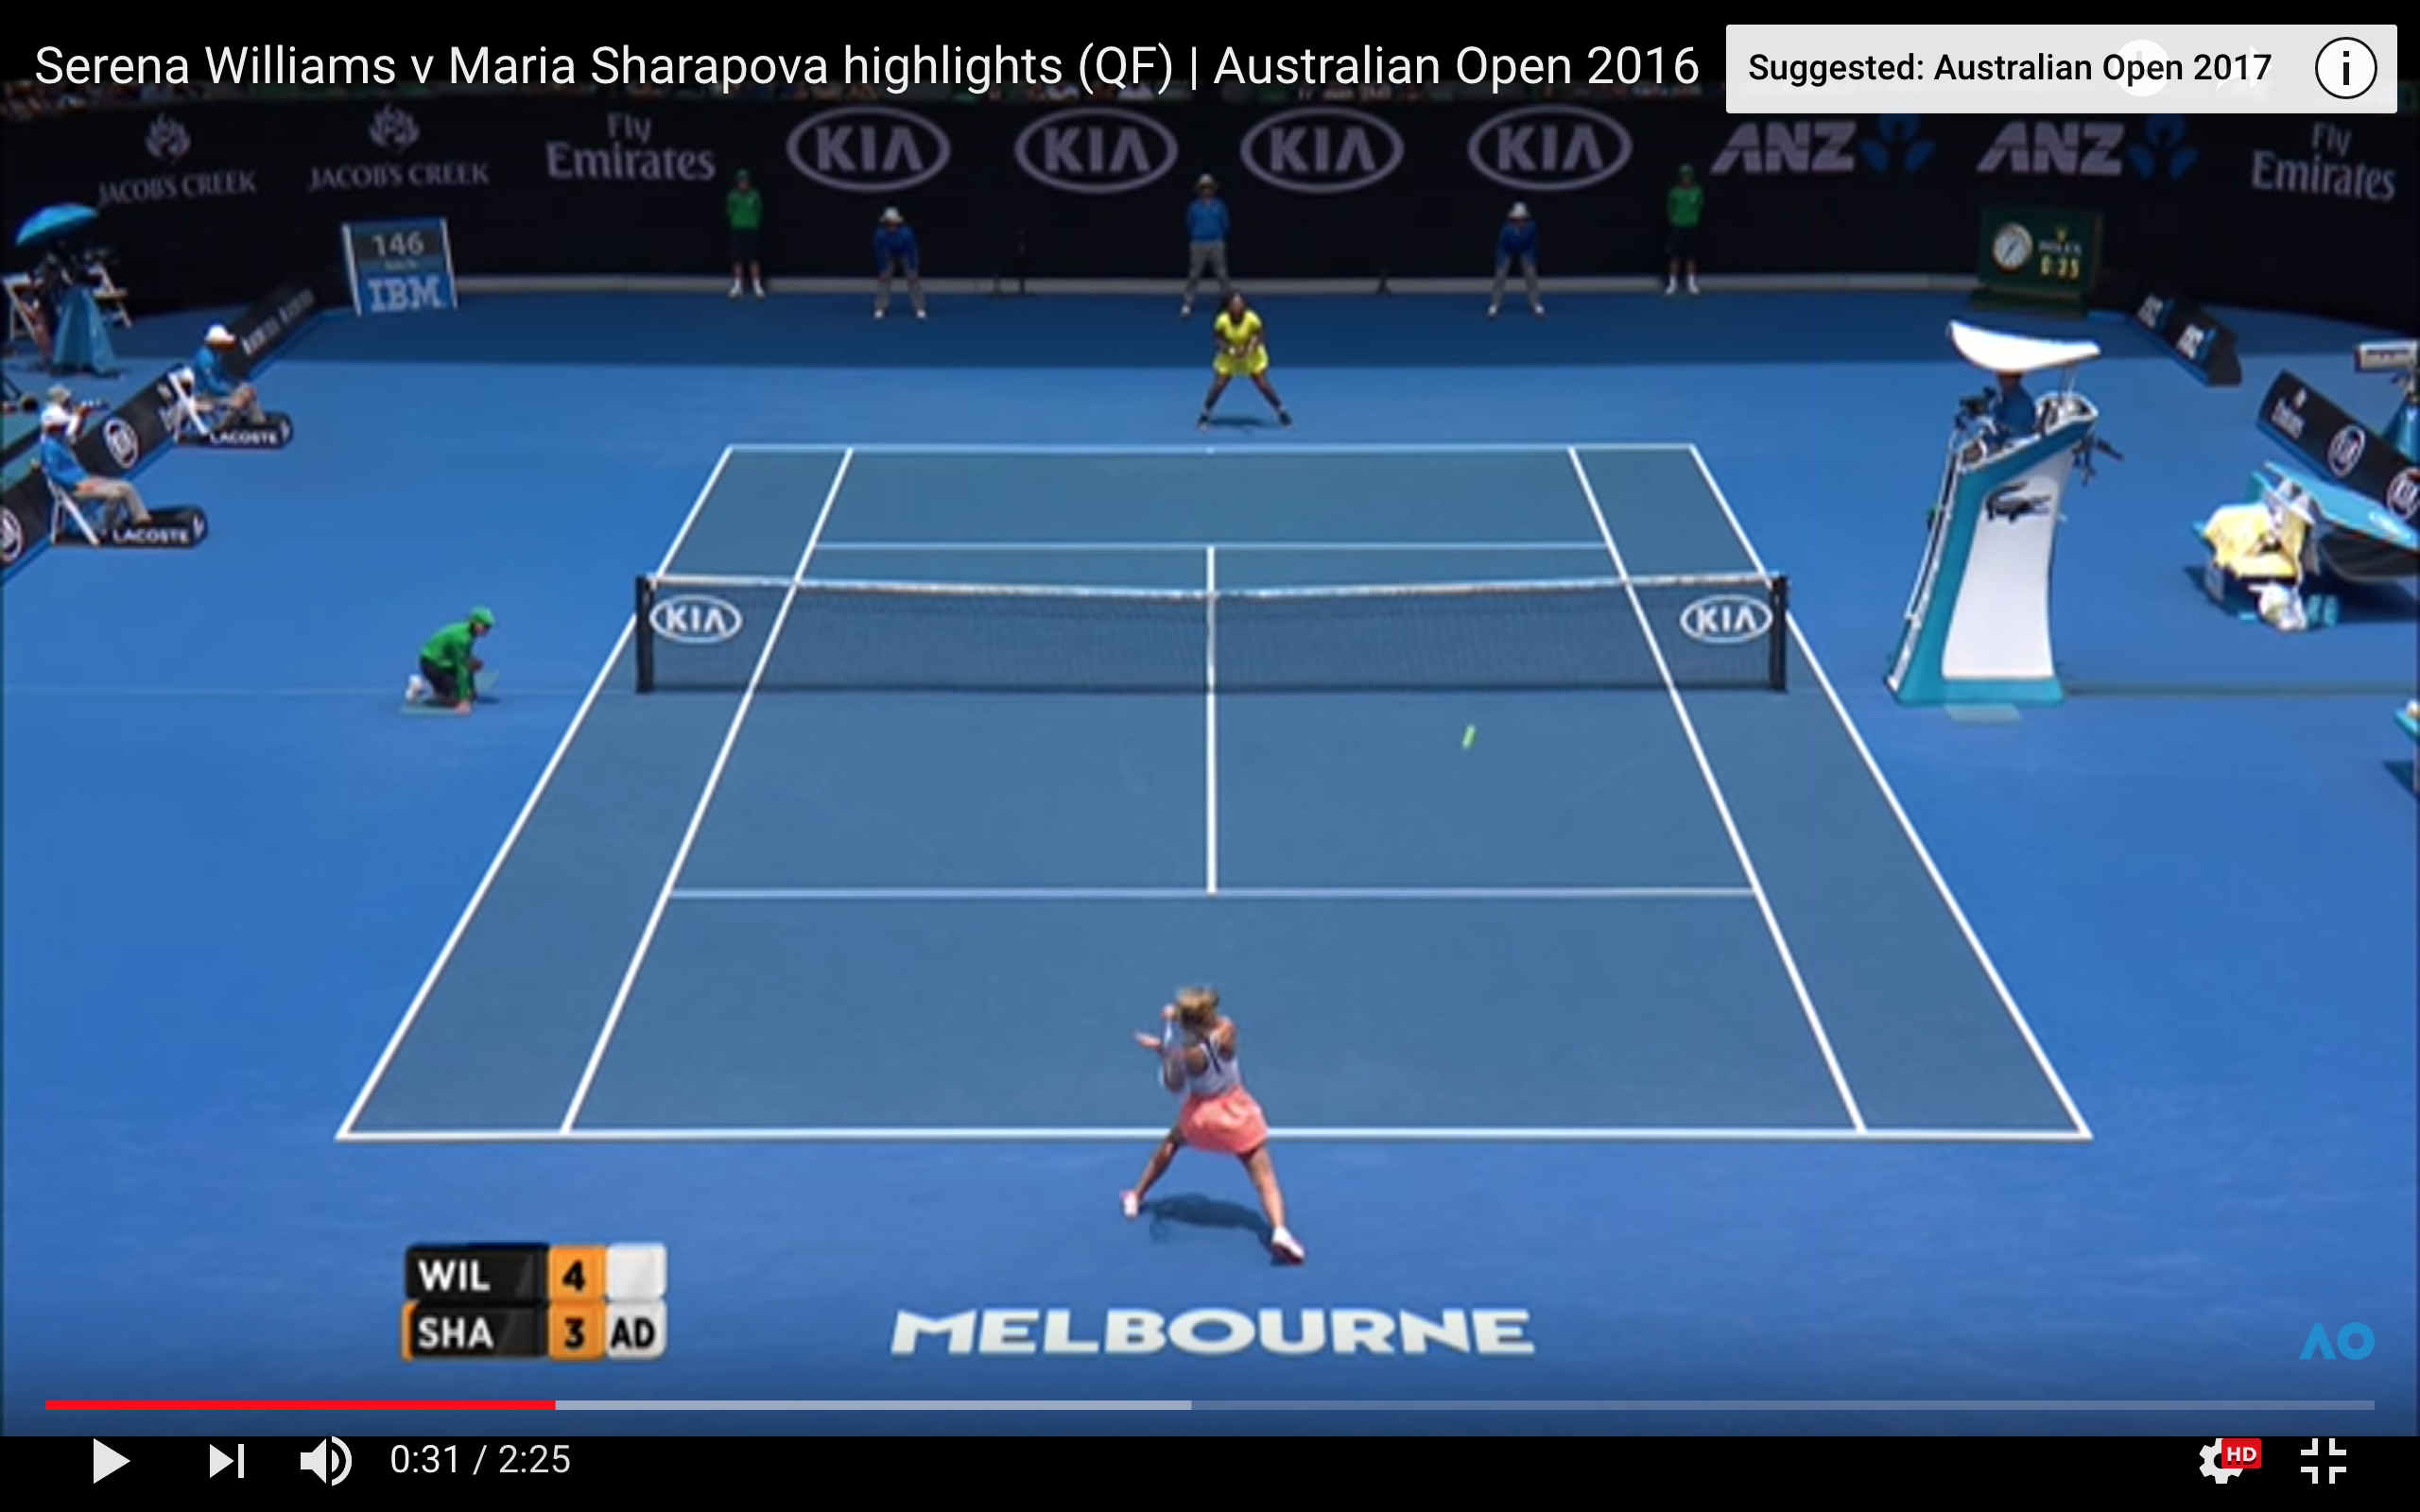tennis ball: (1453, 713, 1484, 753)
tennis player: (1113, 979, 1308, 1274), (1188, 290, 1296, 441)
